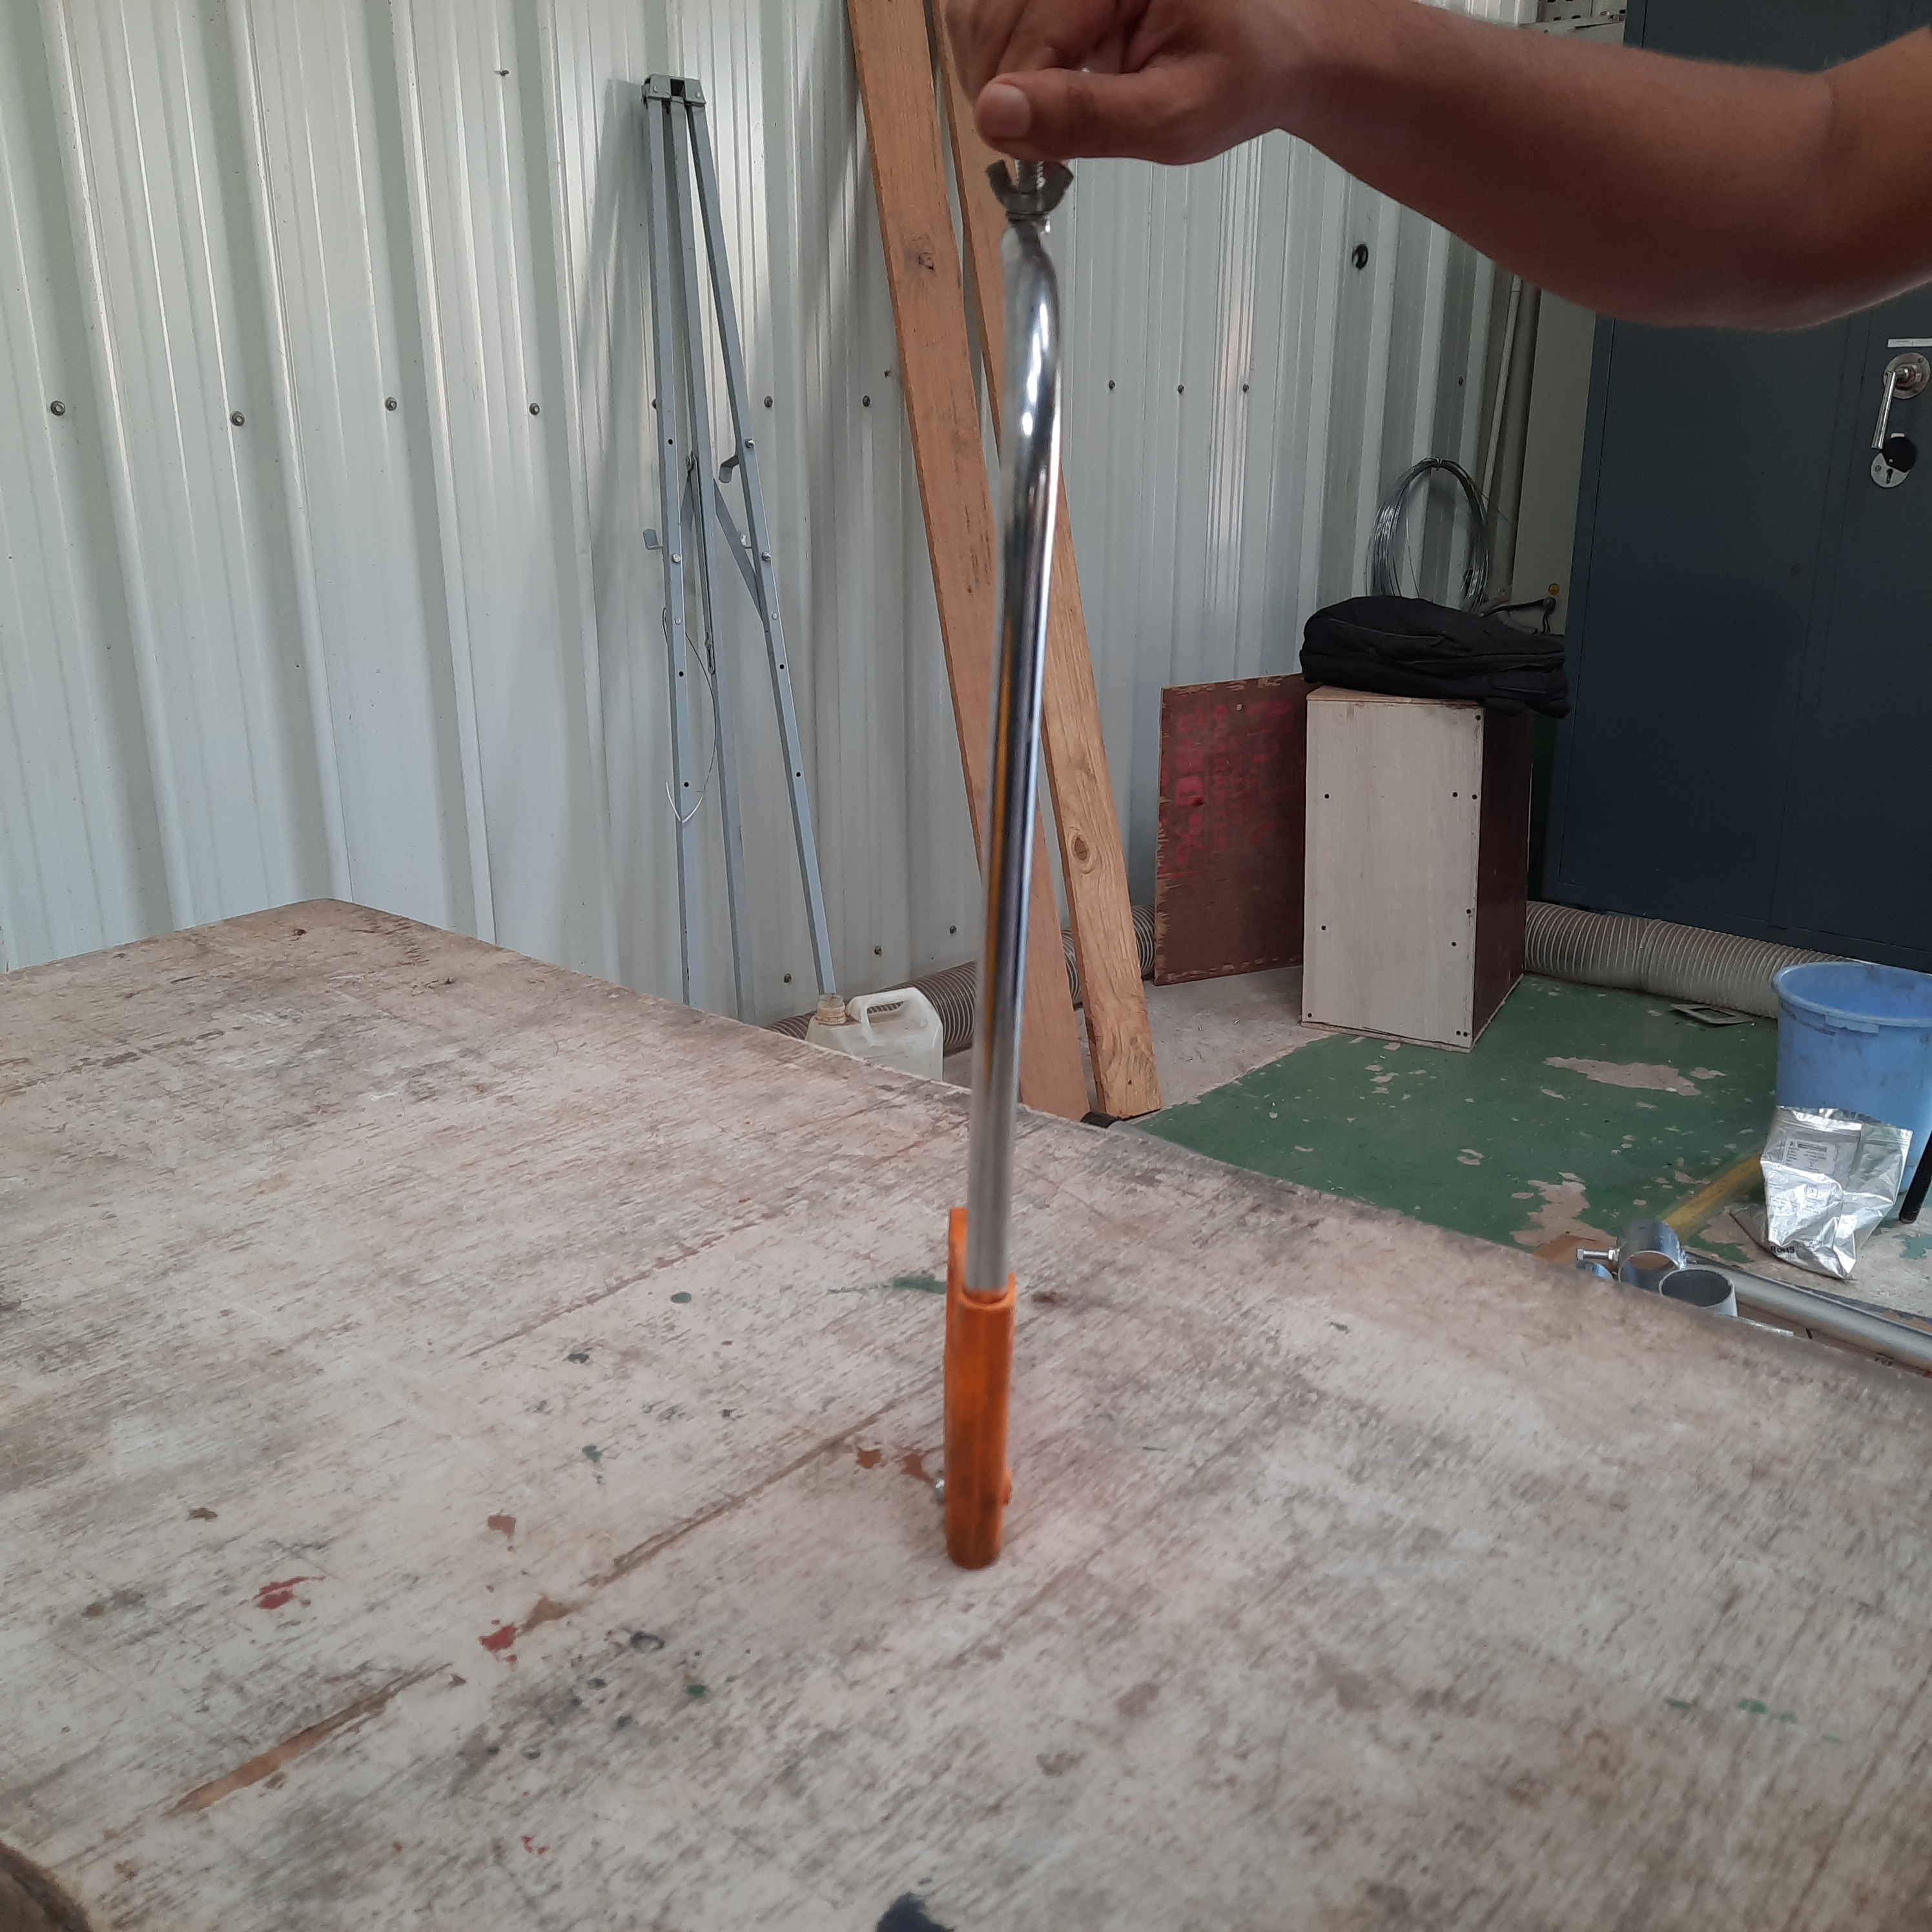Hexaframe: (916, 156, 1077, 1568)
